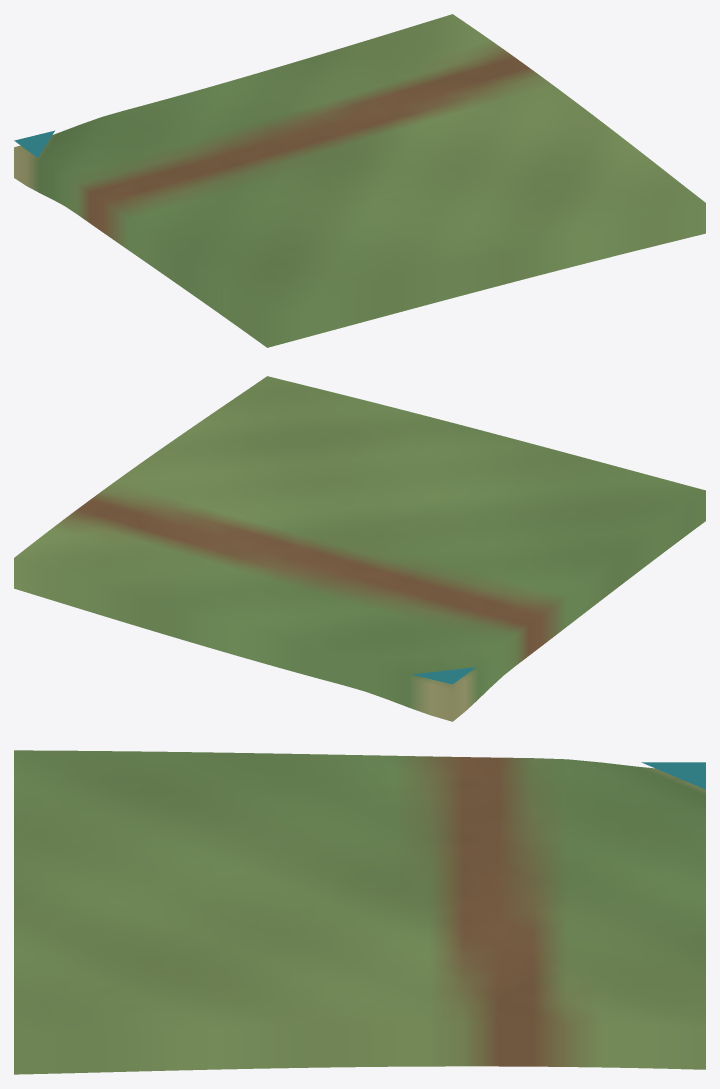
3 views of the same model, one above another, from view 1: azimuth 30°, elevation 25°; view 2: azimuth 150°, elevation 25°; view 3: azimuth 270°, elevation 25° (orthographic). The views are drawn at different scales.
Visible parts, largest first — view 1: terrain; view 2: terrain; view 3: terrain, scenery.
Part boxes in pixels (x1,y1,x2,y2): terrain: [14, 14, 705, 347]; terrain: [14, 376, 705, 721]; terrain: [14, 750, 705, 1074]; scenery: [641, 762, 705, 789].
Size of the model in its own units: 30 by 3.88 by 30.
